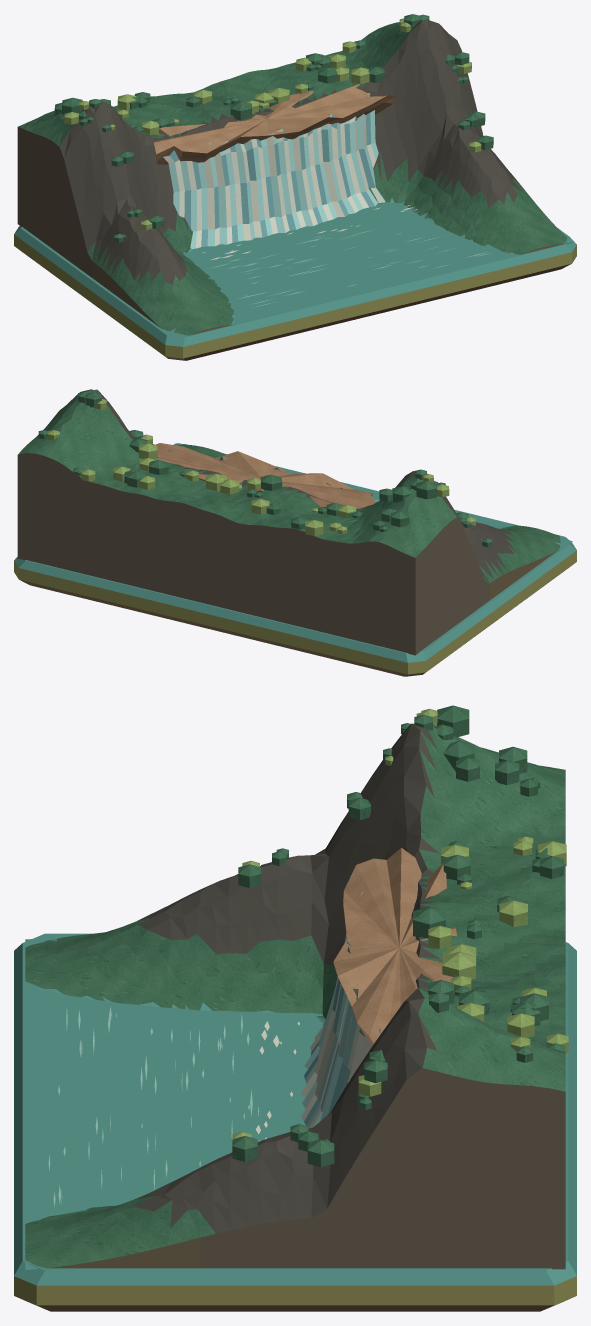
The model's file is huangguoshu.glb.
The picture shows the model from 3 angles, top to bottom: view 1: azimuth 30°, elevation 25°; view 2: azimuth 150°, elevation 25°; view 3: azimuth 270°, elevation 25°; orthographic projection. The views are drawn at different scales.
Visible parts, largest first — view 1: 黄果树瀑布; view 2: 黄果树瀑布; view 3: 黄果树瀑布.
Part boxes in pixels (box(x1,y1,x2,y2)): 黄果树瀑布: box(14, 14, 576, 360); 黄果树瀑布: box(14, 389, 576, 676); 黄果树瀑布: box(14, 705, 576, 1311).
Size of the model in its own units: 6.15 by 2.48 by 4.25.
Materials: 15 (7 with a texture image).
